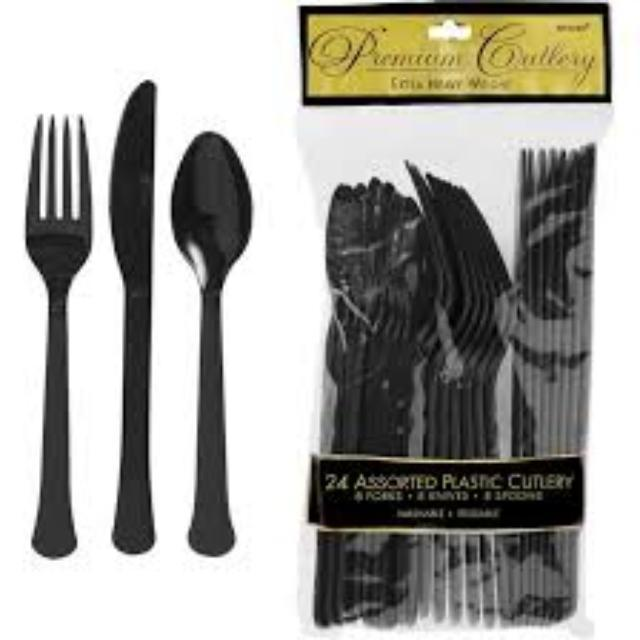Plastico descartable: (171, 131, 251, 556), (26, 118, 91, 558), (110, 81, 155, 554)
